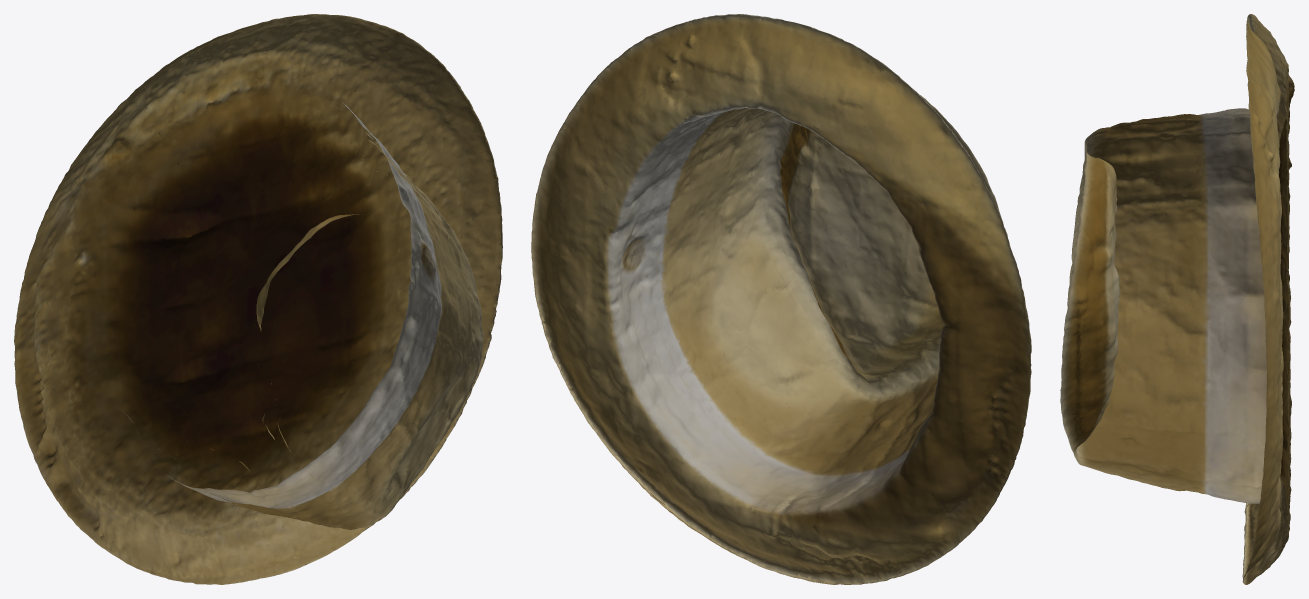
The model's file is hat.glb.
3 renders of one model, left to right at view 1: azimuth 30°, elevation 25°; view 2: azimuth 150°, elevation 25°; view 3: azimuth 270°, elevation 25°, orthographic. The views are drawn at different scales.
Size of the model in its own units: 0.931 by 1 by 0.4063.
